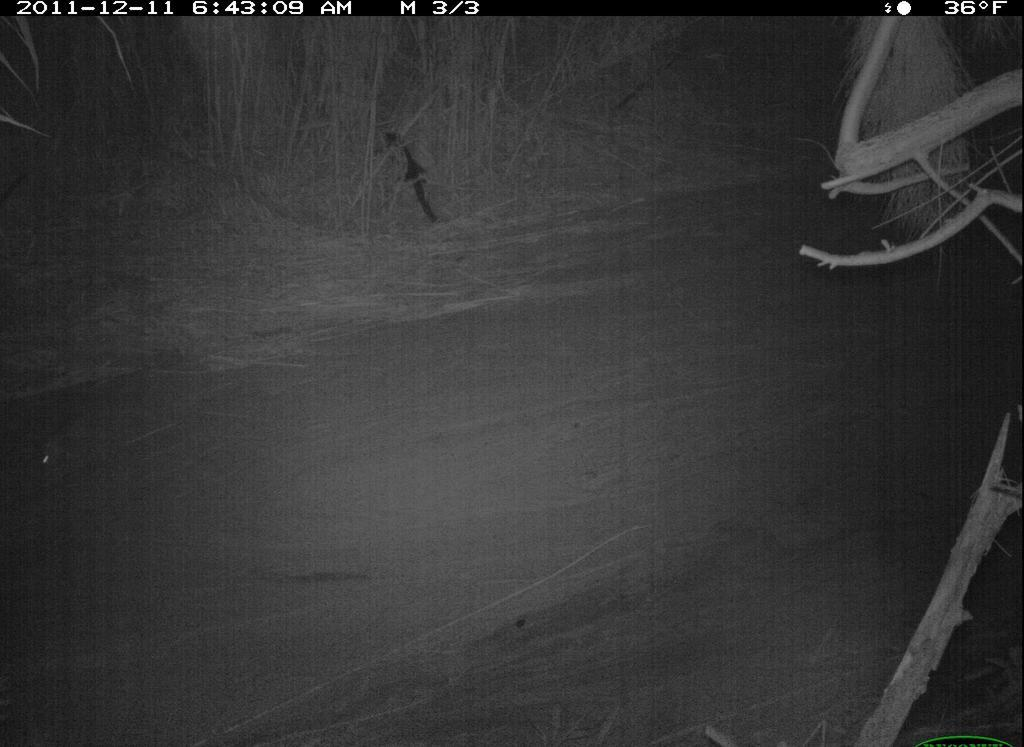rabbit: (30, 405, 140, 483)
